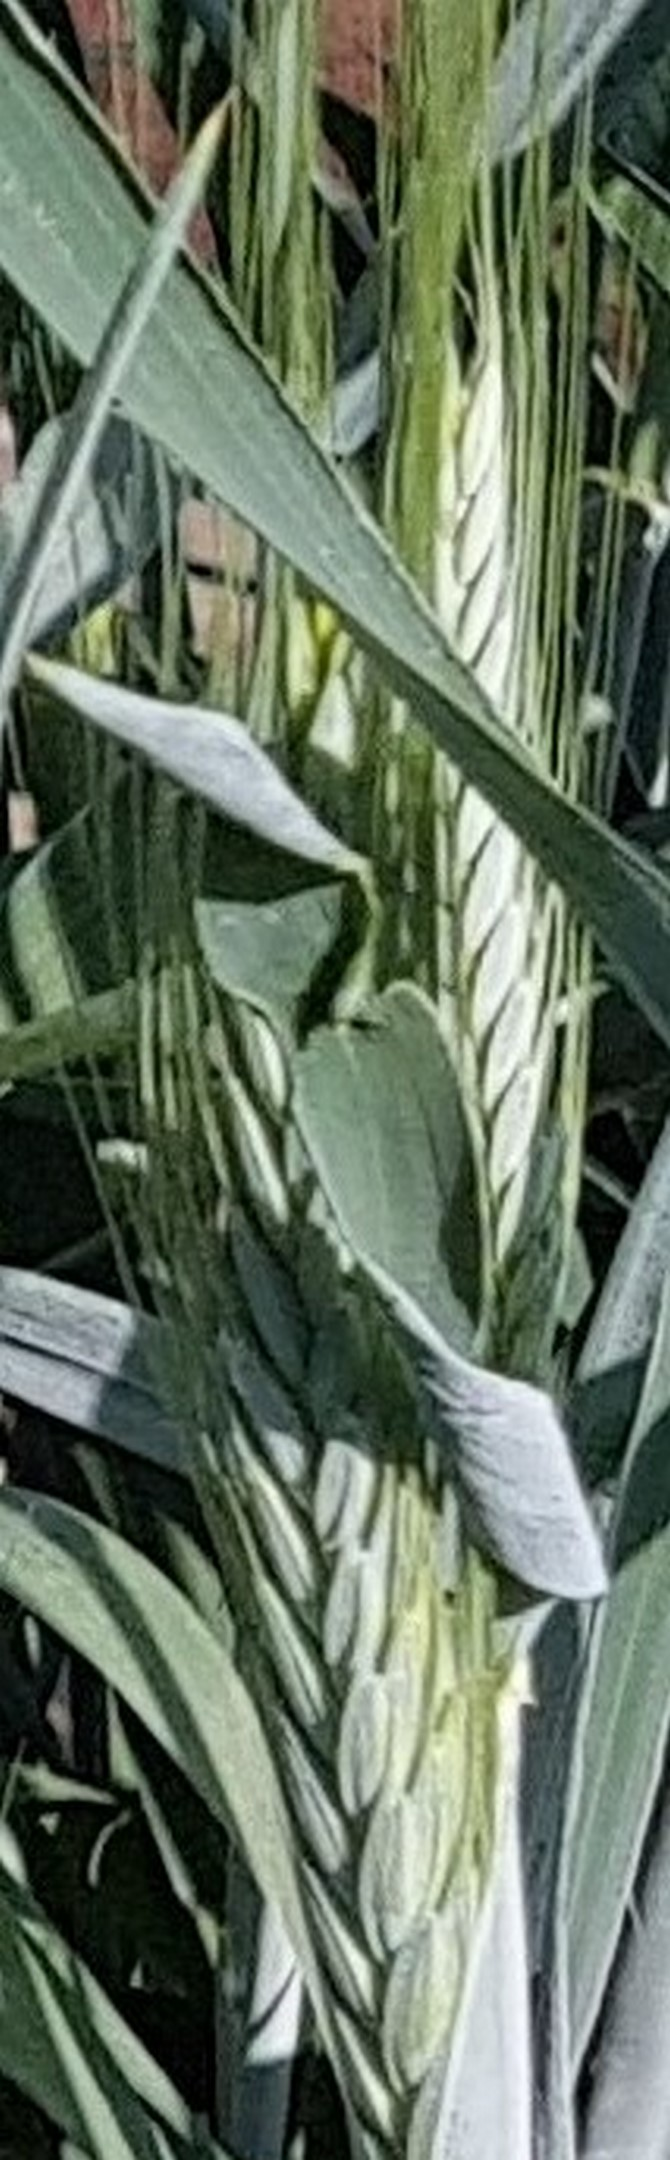Healthy Wheat: (163, 1030, 557, 2098)
